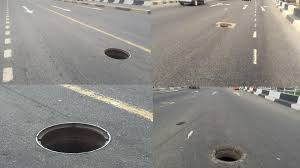Manhole-Open: (33, 117, 117, 161), (211, 142, 254, 164), (103, 45, 134, 65), (214, 18, 237, 28)
